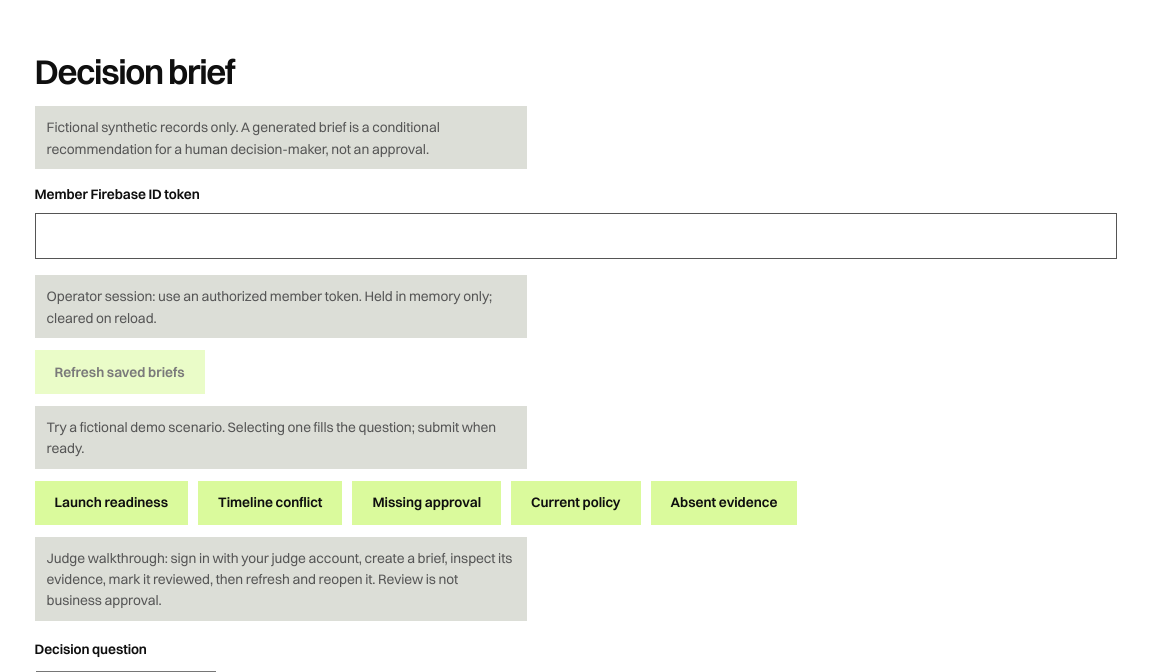
prefills brief questions while leaving credentials and review deliberate
The image size is (1152, 672).
Expected: the password field labelled "Member Firebase ID token" is empty, [34, 213, 1117, 259]
Step 1. Click the button "Missing approval" → (427, 503), box [352, 481, 501, 525]
(page scrolled)
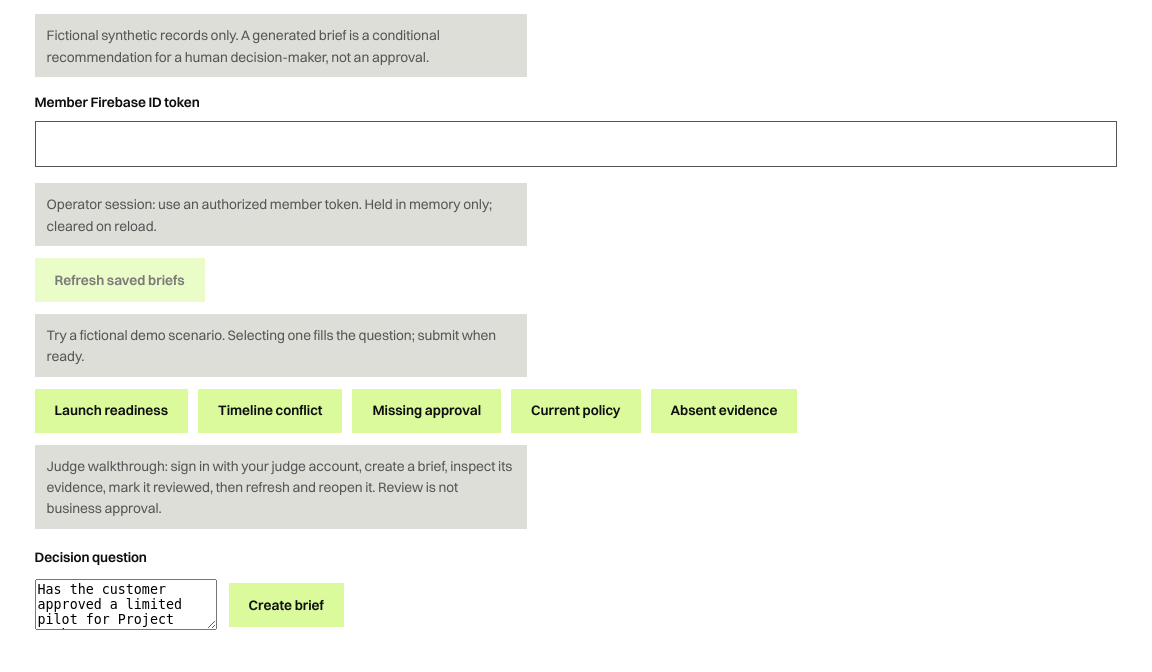
Now the text box labelled "Decision question" holds "Has the customer approved a limited pilot for Project Harbour?", box [34, 579, 216, 630]
